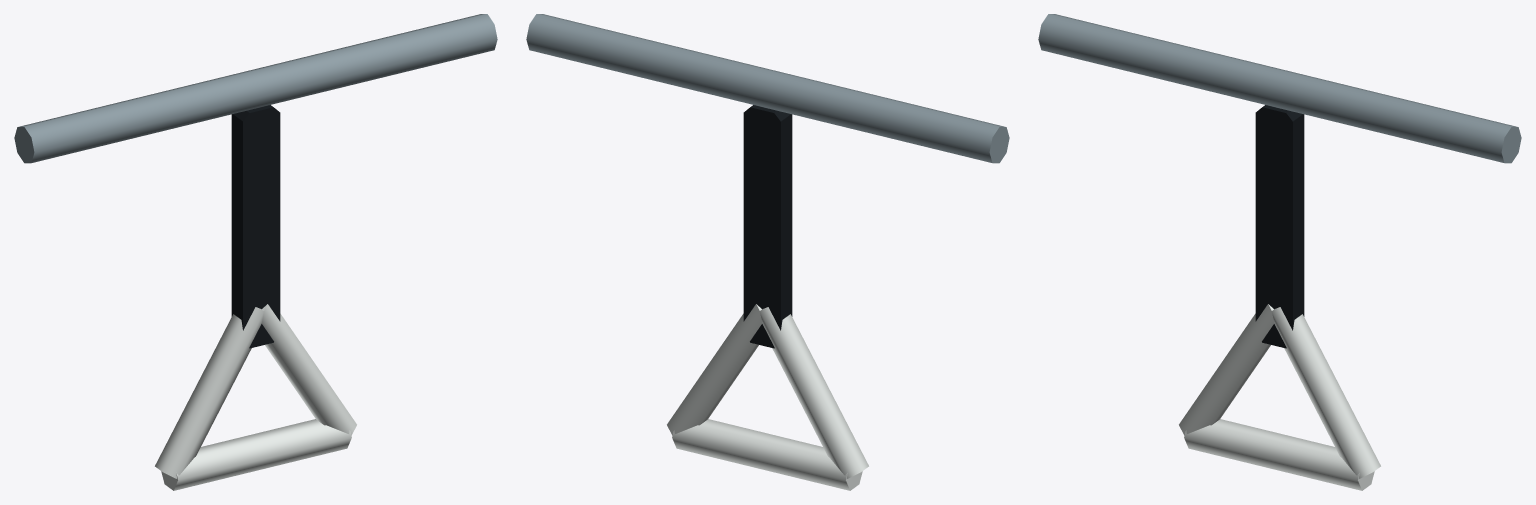
Rendered from sg-grab-handle.glb.
The picture shows the model from 3 angles, left to right: view 1: azimuth 30°, elevation 25°; view 2: azimuth 150°, elevation 25°; view 3: azimuth 330°, elevation 25°; orthographic projection.
Parts seen in each view (by area): view 1: body; view 2: body; view 3: body.
Boxes of the visible parts, x1,y1,x2,y2 form: body: (14, 14, 497, 490); body: (526, 14, 1009, 490); body: (1038, 14, 1521, 490).
Bounding box in the file's own units: 0.56 × 0.4575 × 0.042.
